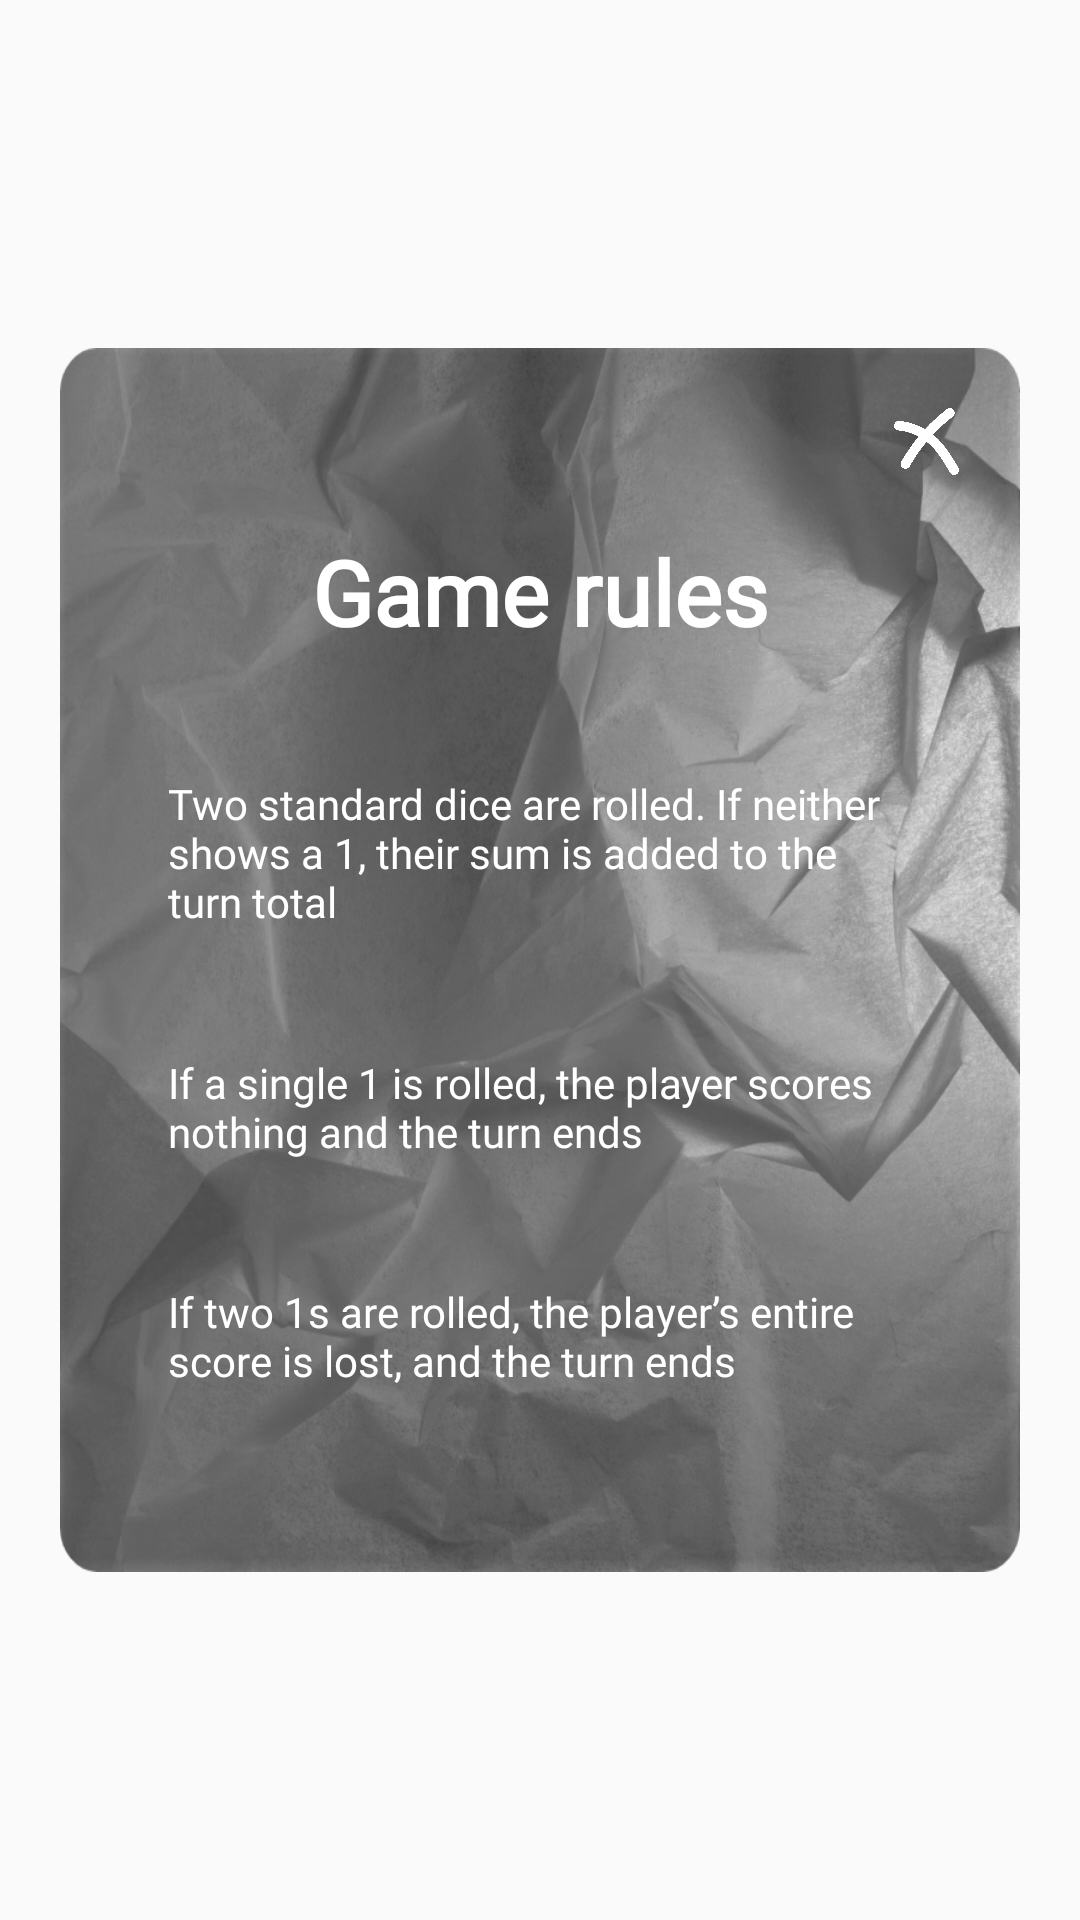

Where to tap for icons on this 1080 x 1920 app screen, as (x,y):
figclose: (926,441)
